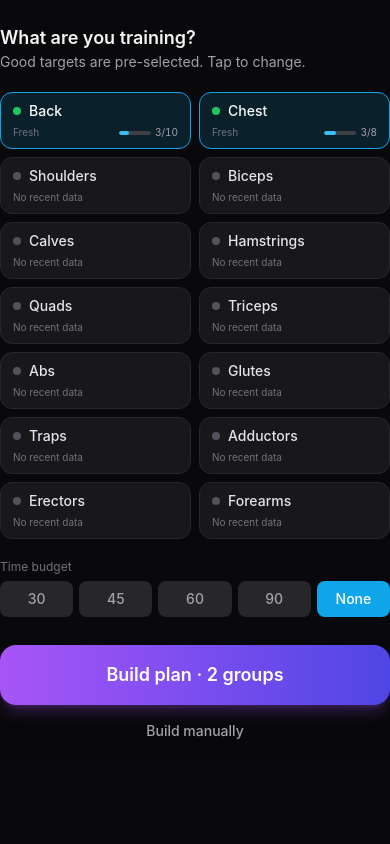
Test: WorkoutSetupFlow — AI review › "Looks good." when the review returns no suggestions
This screenshot has width=390, height=844.
Click the button with test id "setup-build-plan": click(195, 675) [0,645,389,705]
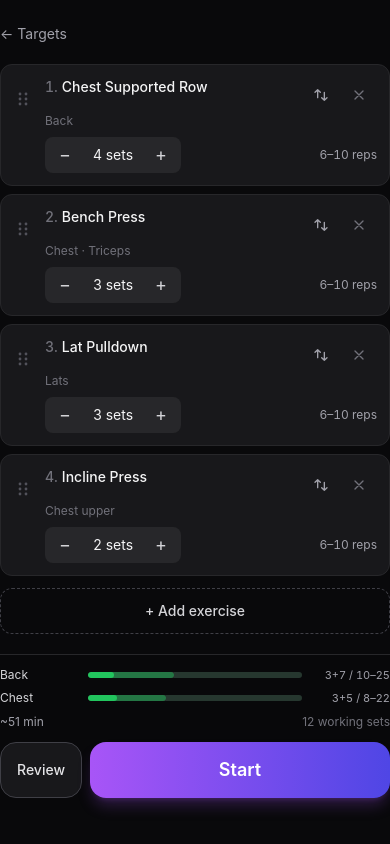
Click the button with test id "setup-review": click(41, 770) [0,742,82,798]
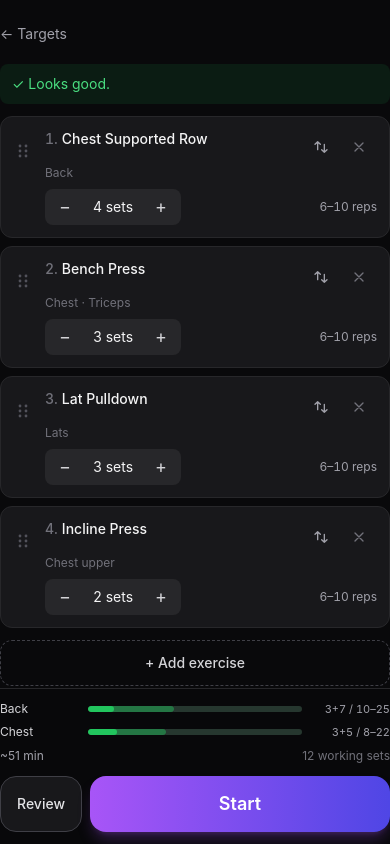
Expected: the text with test id "setup-review-banner" shows "Looks good.", [12,75,110,92]
